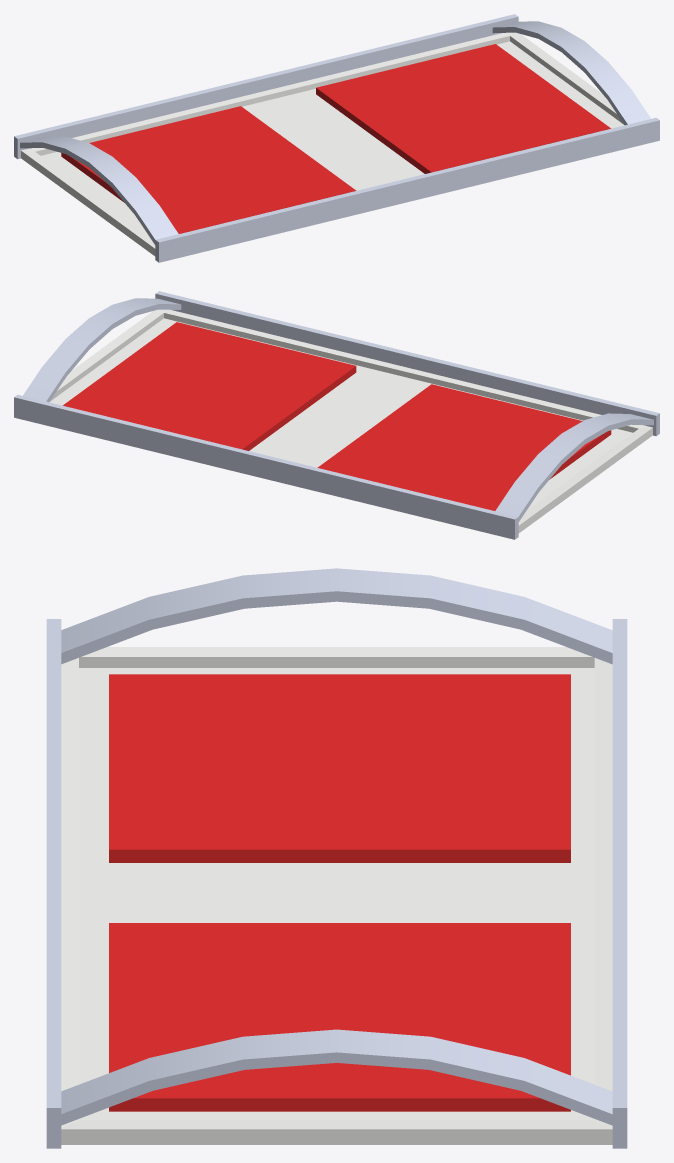
The model's file is SM_sign_top.fbx.
3 views of the same model, one above another, from view 1: azimuth 30°, elevation 25°; view 2: azimuth 150°, elevation 25°; view 3: azimuth 270°, elevation 25° (orthographic). The views are drawn at different scales.
Visible parts, largest first — view 1: sign_top; view 2: sign_top; view 3: sign_top.
Boxes of the visible parts, left/top/right/bottom form: sign_top: left=14, top=14, right=659, bottom=262; sign_top: left=14, top=291, right=659, bottom=539; sign_top: left=46, top=568, right=627, bottom=1148.
Bounding box in the file's own units: 160 × 14.33 × 80.39.
